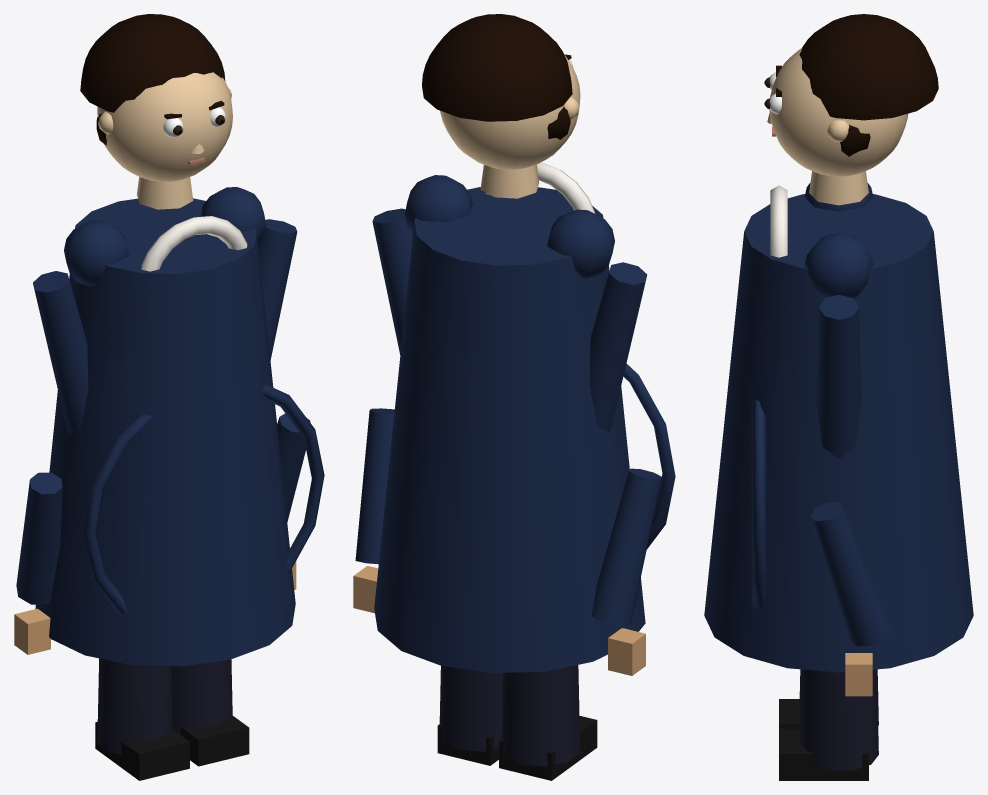
Rendered from accionante.glb.
The picture shows the model from 3 angles, left to right: view 1: azimuth 30°, elevation 25°; view 2: azimuth 150°, elevation 25°; view 3: azimuth 270°, elevation 25°; orthographic projection. The views are drawn at different scales.
Parts seen in each view (by area): view 1: ACCIONANTE; view 2: ACCIONANTE; view 3: ACCIONANTE.
Boxes of the visible parts, box(x1,y1,x2,y2) form: ACCIONANTE: box(14, 14, 324, 780); ACCIONANTE: box(353, 14, 675, 780); ACCIONANTE: box(704, 14, 973, 780).
Bounding box in the file's own units: 0.6596 × 1.62 × 0.54.
